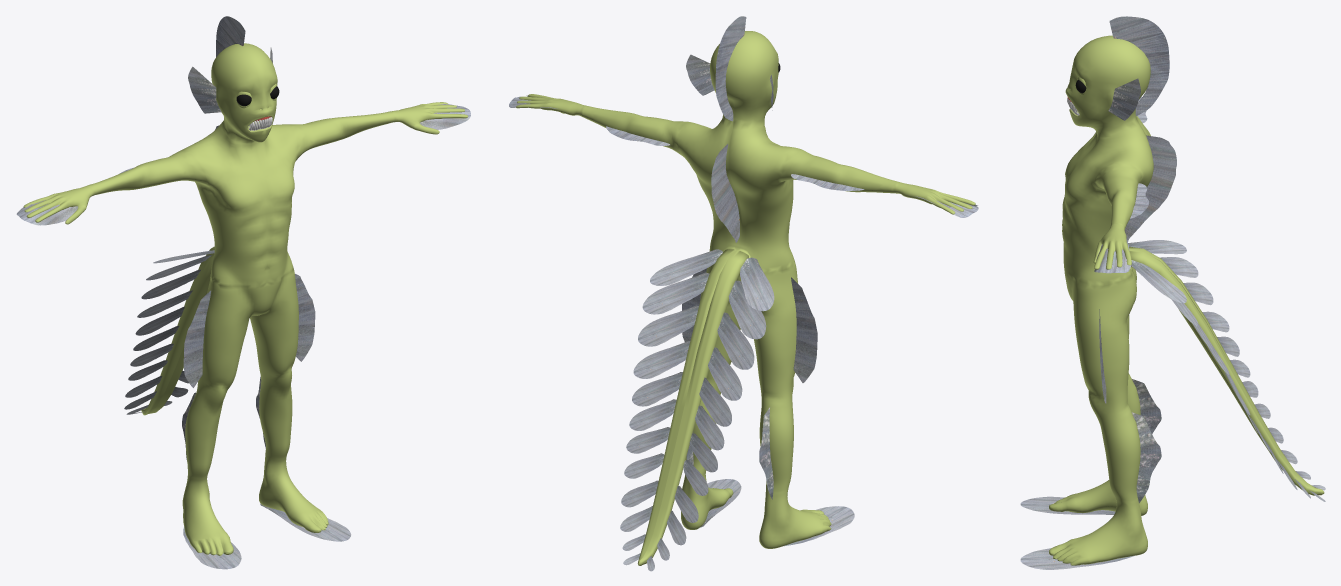
Rendered from monster_04.fbx.
3 renders of one model, left to right at view 1: azimuth 30°, elevation 25°; view 2: azimuth 150°, elevation 25°; view 3: azimuth 270°, elevation 25°, orthographic. The views are drawn at different scales.
Visible parts, largest first — view 1: Ch36.001, Plane, Ch36.002; view 2: Ch36.001, Plane, Ch36.002; view 3: Ch36.001, Ch36.002, Plane.
Part boxes in pixels (x1,y1,x2,y2): Ch36.001: [23, 43, 468, 555]; Plane: [16, 103, 470, 569]; Ch36.002: [119, 16, 315, 461]; Ch36.001: [516, 31, 975, 565]; Plane: [509, 95, 978, 571]; Ch36.002: [606, 16, 864, 499]; Ch36.001: [1049, 35, 1324, 565]; Ch36.002: [1099, 16, 1176, 503]; Plane: [1020, 239, 1325, 569].
Bounding box in the file's own units: 169 × 178 × 97.13.
